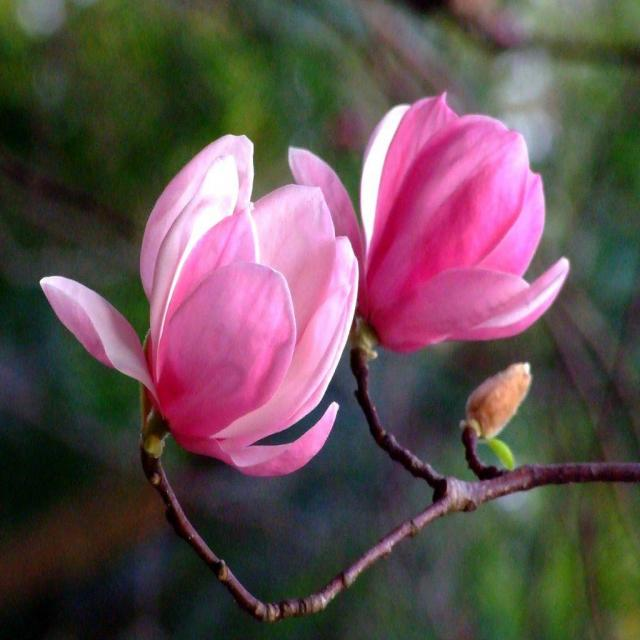organic waste: (50, 124, 340, 480), (322, 98, 584, 364)
